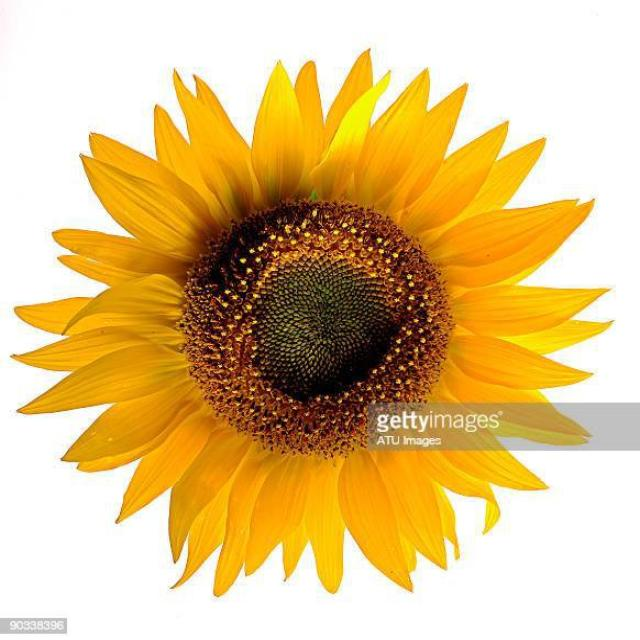sunflower: (10, 47, 614, 597)
